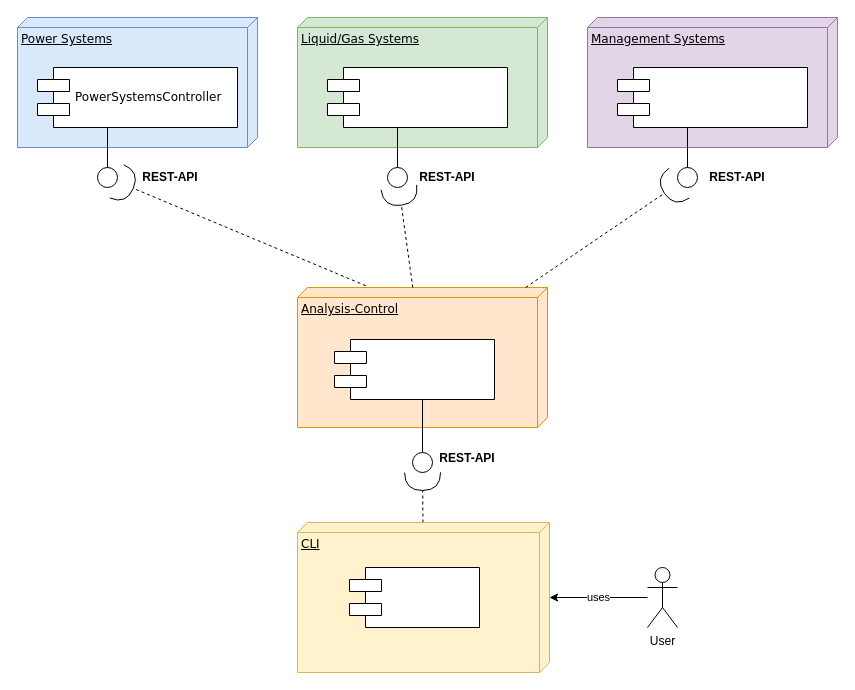
The diagram is 855 pixels wide and 690 high, and some of its shapes have lost their labels. The centre of each missing label's shape, as x and y in pixels:
"AnalysisController" belongs at pixel 414 369.
"CliController" belongs at pixel 414 597.
"LiquidGasController" belongs at pixel 417 97.
"ManagementController" belongs at pixel 712 97.
